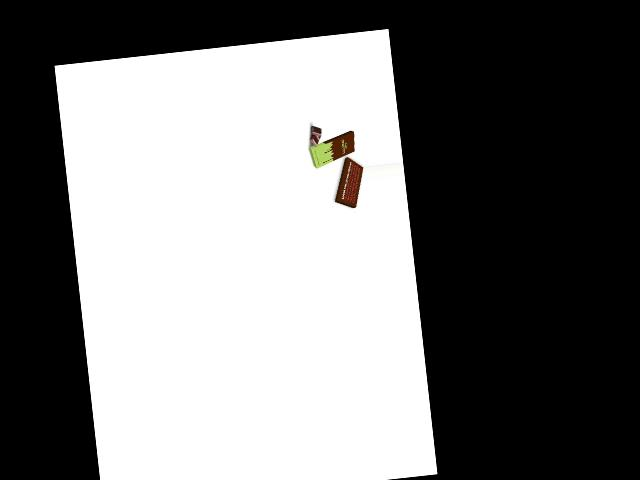chocolate: (306, 133, 358, 166)
